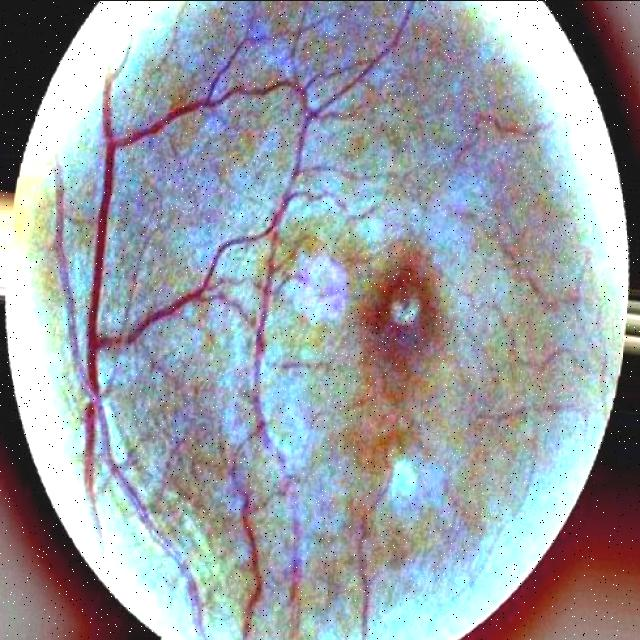Macula: (373, 262, 445, 364)
Nerves: (73, 72, 283, 521)
